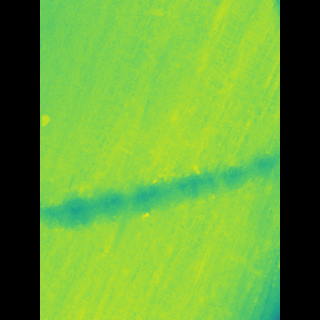Loch: (71, 140, 242, 239)
